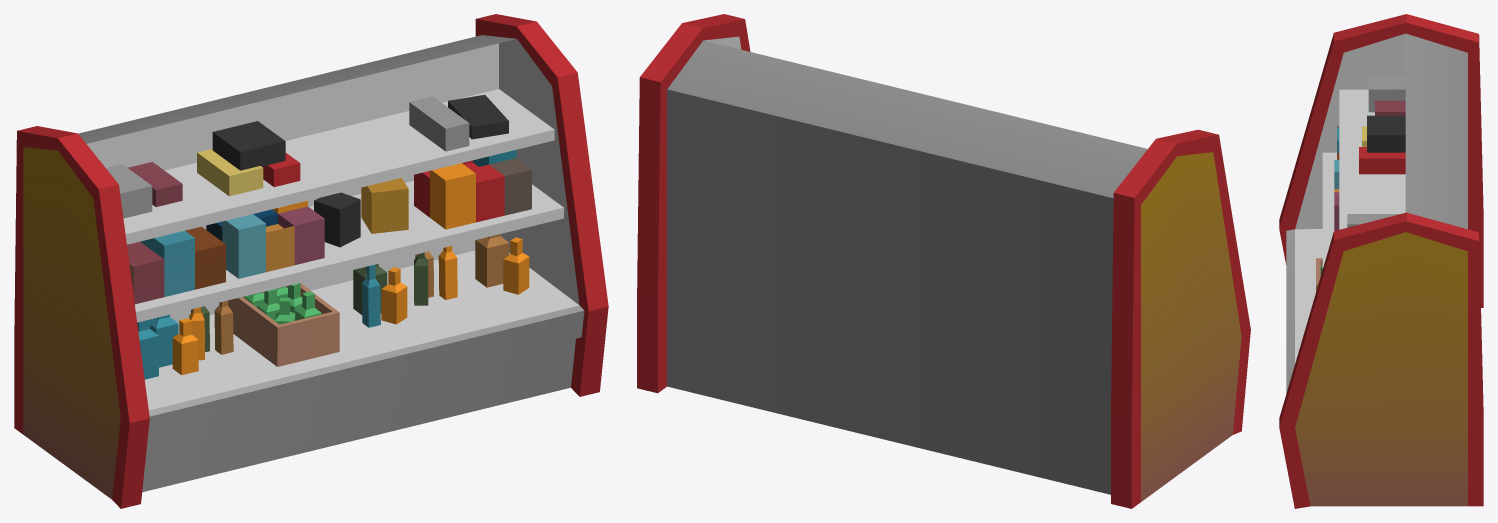
The model's file is B03_presentoir_02.fbx.
3 views of the same model, side by side, from view 1: azimuth 30°, elevation 25°; view 2: azimuth 150°, elevation 25°; view 3: azimuth 270°, elevation 25° (orthographic). The views are drawn at different scales.
Parts seen in each view (by area): view 1: B03_presentoir_02; view 2: B03_presentoir_02; view 3: B03_presentoir_02.
Boxes of the visible parts, left/top/right/bottom form: B03_presentoir_02: left=14, top=14, right=608, bottom=508; B03_presentoir_02: left=637, top=14, right=1250, bottom=508; B03_presentoir_02: left=1279, top=14, right=1483, bottom=508.
Bounding box in the file's own units: 334 × 216 × 139.
